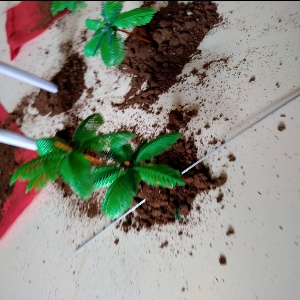plant: (25, 117, 173, 217), (86, 4, 169, 71)
